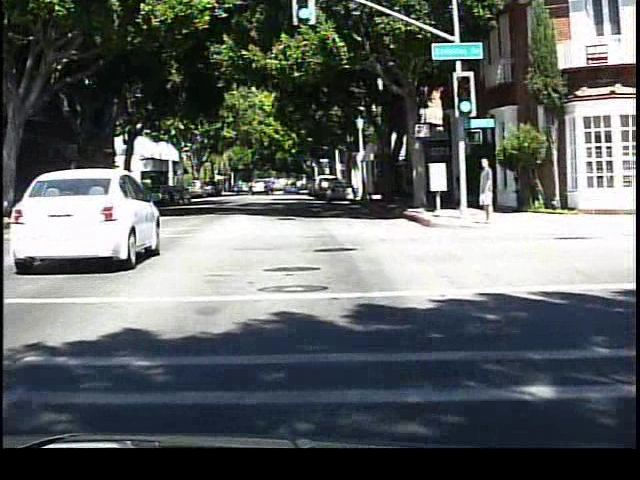person: (474, 156, 498, 225)
